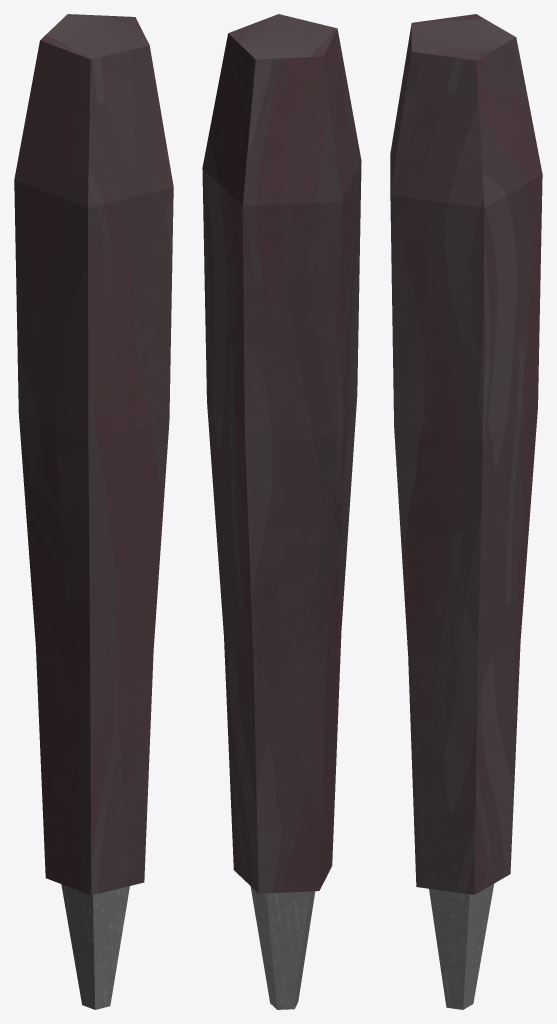
File: Pen.fbx
The picture shows the model from 3 angles, left to right: view 1: azimuth 30°, elevation 25°; view 2: azimuth 150°, elevation 25°; view 3: azimuth 270°, elevation 25°; orthographic projection.
Visible parts, largest first — view 1: pen; view 2: pen; view 3: pen.
Part boxes in pixels (x1,y1,x2,y2): pen: [14, 14, 173, 1009]; pen: [202, 14, 361, 1009]; pen: [390, 14, 542, 1009].
Bounding box in the file's own units: 4.61 × 30.73 × 4.38.
